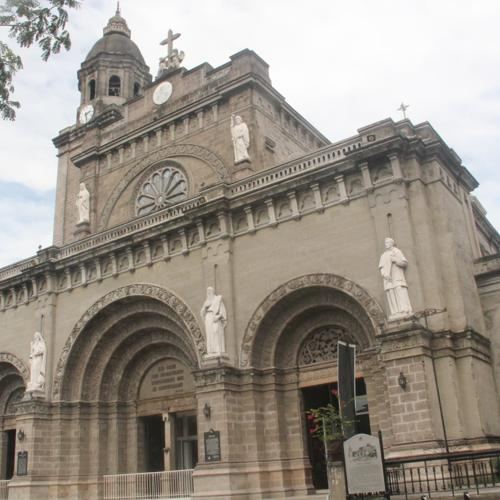Manila Cathedral Church: (10, 12, 497, 488)
